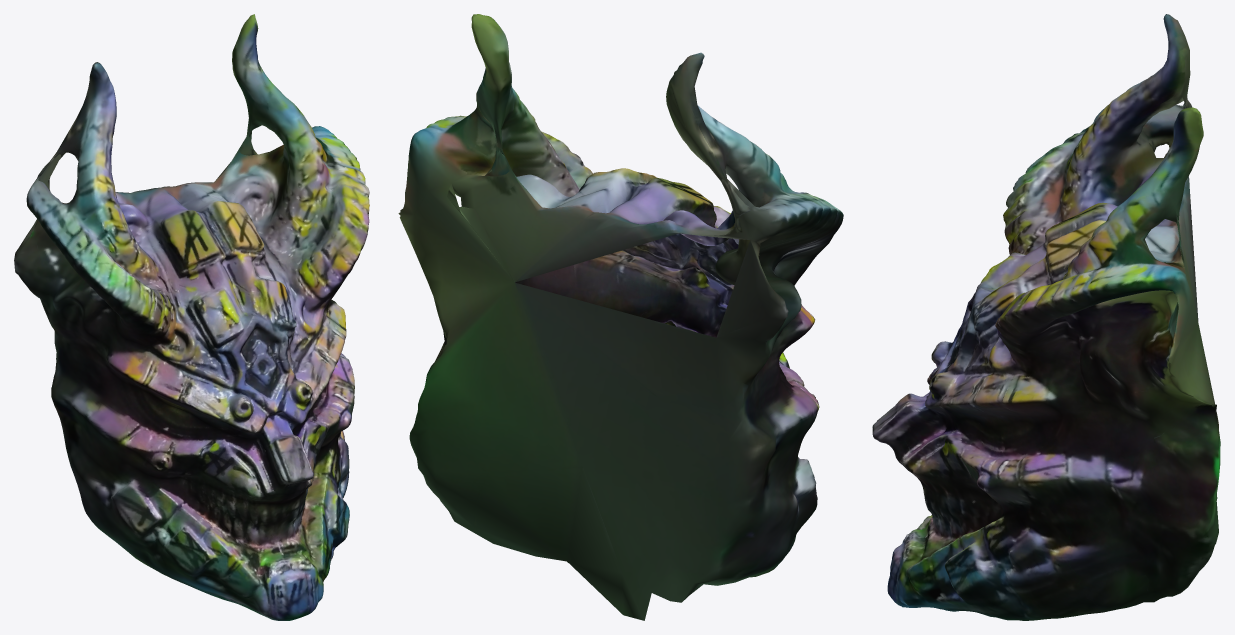
Rendered from nexusproxy.glb.
3 views of the same model, side by side, from view 1: azimuth 30°, elevation 25°; view 2: azimuth 150°, elevation 25°; view 3: azimuth 270°, elevation 25° (orthographic). The views are drawn at different scales.
Visible parts, largest first — view 1: 3DModel; view 2: 3DModel; view 3: 3DModel.
Boxes of the visible parts, x1=… form: 3DModel: x1=14, y1=14, x2=369, y2=620; 3DModel: x1=398, y1=14, x2=843, y2=620; 3DModel: x1=872, y1=14, x2=1220, y2=620.
Bounding box in the file's own units: 0.6357 × 0.9247 × 0.5353.
Materials: 1 (1 with a texture image).
